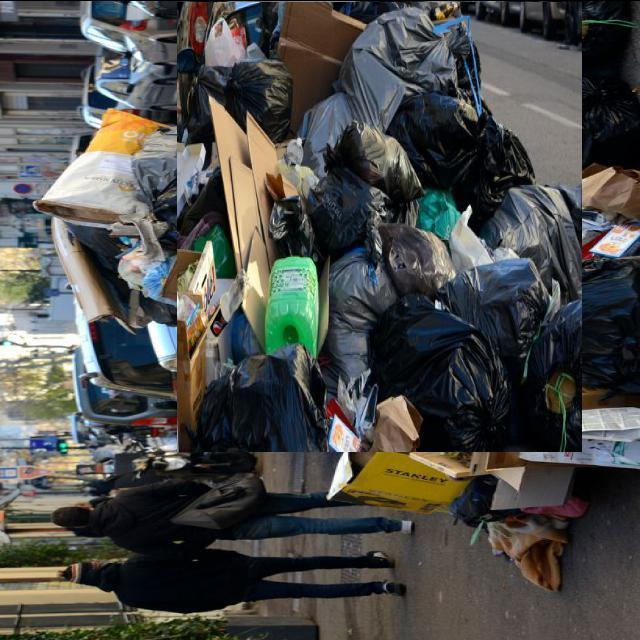Trashbag: (379, 308, 506, 442), (190, 340, 328, 455), (398, 90, 478, 174), (228, 56, 302, 142), (466, 131, 529, 225), (337, 132, 428, 193), (306, 185, 388, 251), (525, 303, 580, 392), (473, 254, 549, 304), (184, 66, 228, 132)
